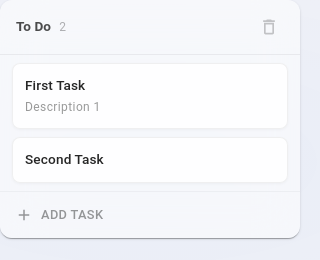
KanbanColumn › cancels inline edit on Escape
Click the heading "To Do2" at (41, 26), box [16,18,66,34]
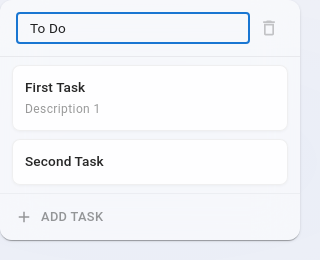
Press Escape in the field showing "To Do", box [16,10,250,46]
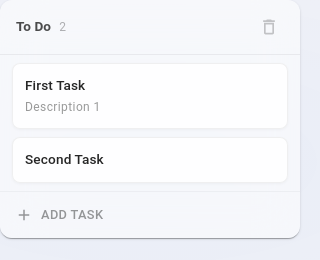
Result: the heading "To Do2" is shown at [16,18,66,34]
